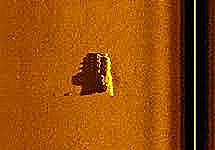ship: (95, 52, 114, 97)
